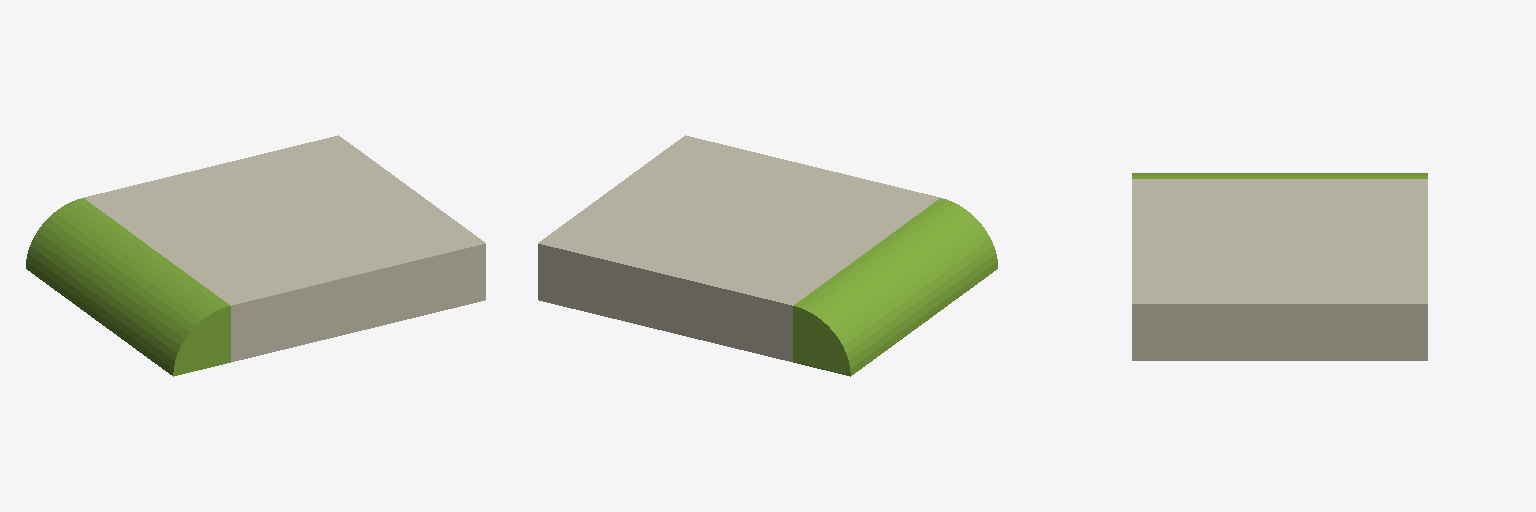
Rendered from modularBuildings_012.obj.
3 views of the same model, side by side, from view 1: azimuth 30°, elevation 25°; view 2: azimuth 150°, elevation 25°; view 3: azimuth 270°, elevation 25° (orthographic).
Visible parts, largest first — view 1: Mesh1 Group1 Model; view 2: Mesh1 Group1 Model; view 3: Mesh1 Group1 Model.
Boxes of the visible parts, <box> form: Mesh1 Group1 Model: <box>26,135,485,376</box>; Mesh1 Group1 Model: <box>538,135,997,376</box>; Mesh1 Group1 Model: <box>1132,173,1427,360</box>.
Bounding box in the file's own units: 1.23 × 0.2125 × 1.